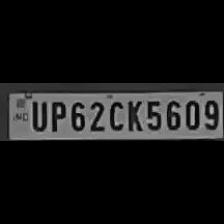0: (182, 98, 200, 130)
2: (88, 98, 104, 132)
5: (142, 96, 162, 132)
6: (66, 98, 86, 132), (163, 97, 181, 130)
9: (200, 97, 220, 131)
C: (106, 98, 124, 132)
K: (124, 97, 142, 132)
P: (47, 98, 66, 132)
U: (28, 98, 46, 132)
